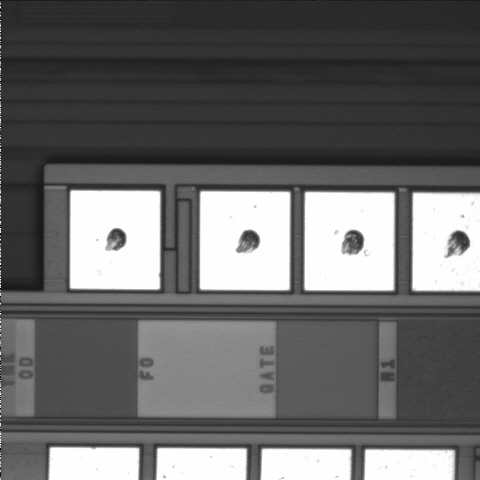pad: (200, 191, 290, 290), (70, 191, 160, 289), (305, 192, 394, 291)
